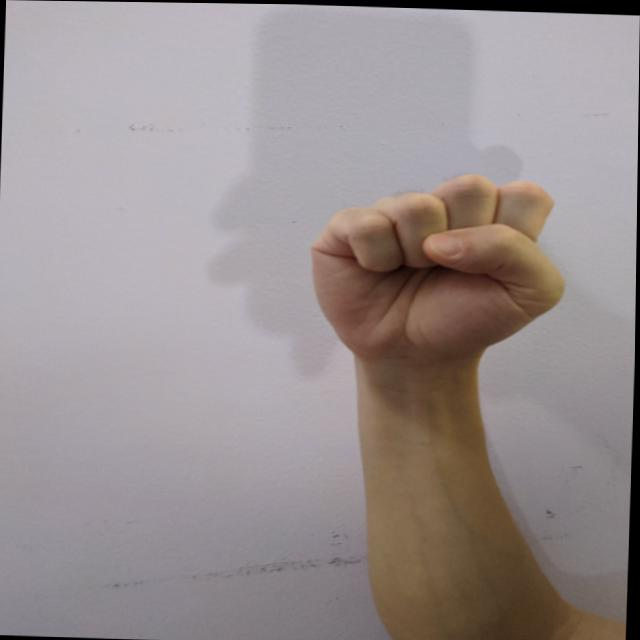S: (300, 164, 576, 371)
